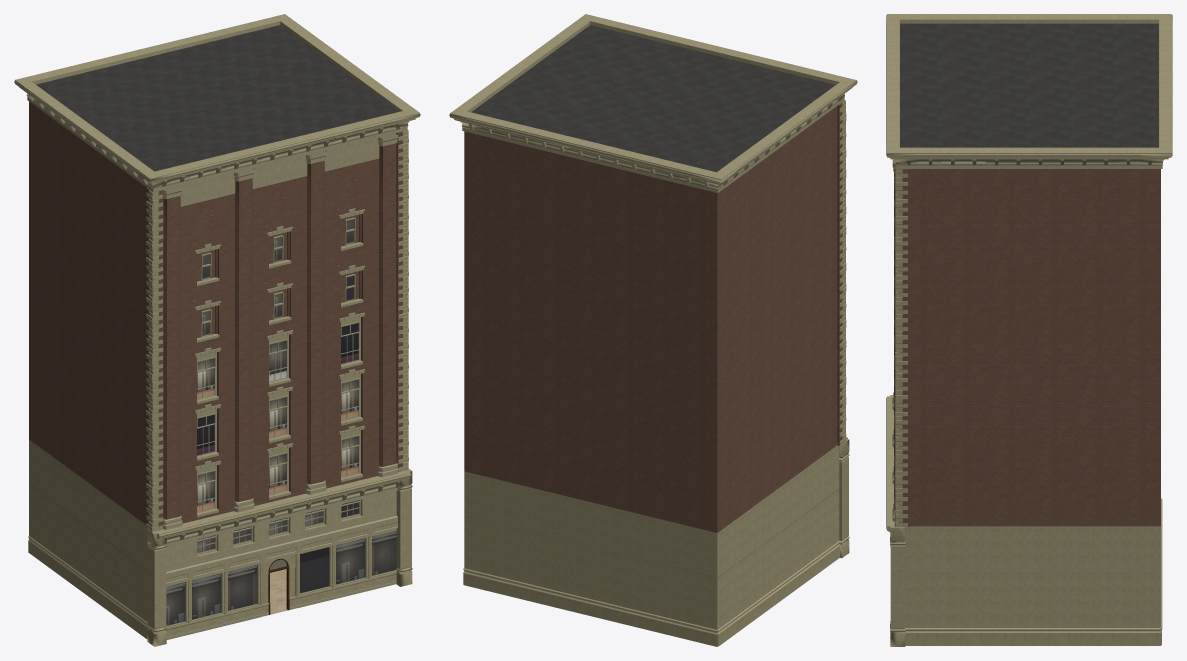
Rendered from dt-medium.glb.
The picture shows the model from 3 angles, left to right: view 1: azimuth 30°, elevation 25°; view 2: azimuth 150°, elevation 25°; view 3: azimuth 270°, elevation 25°; orthographic projection. The views are drawn at different scales.
Parts seen in each view (by area): view 1: Building_Medium_2.001; view 2: Building_Medium_2.001; view 3: Building_Medium_2.001.
Boxes of the visible parts, x1,y1,x2,y2 form: Building_Medium_2.001: [14, 14, 420, 646]; Building_Medium_2.001: [449, 14, 857, 646]; Building_Medium_2.001: [886, 14, 1172, 646].
Bounding box in the file's own units: 15.06 × 25.01 × 13.06.
Materials: 8 (7 with a texture image).
